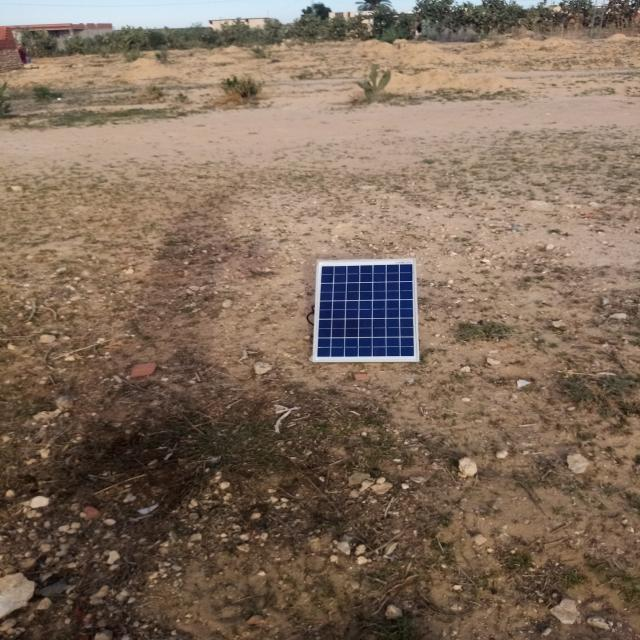no faulty: (314, 259, 419, 361)
